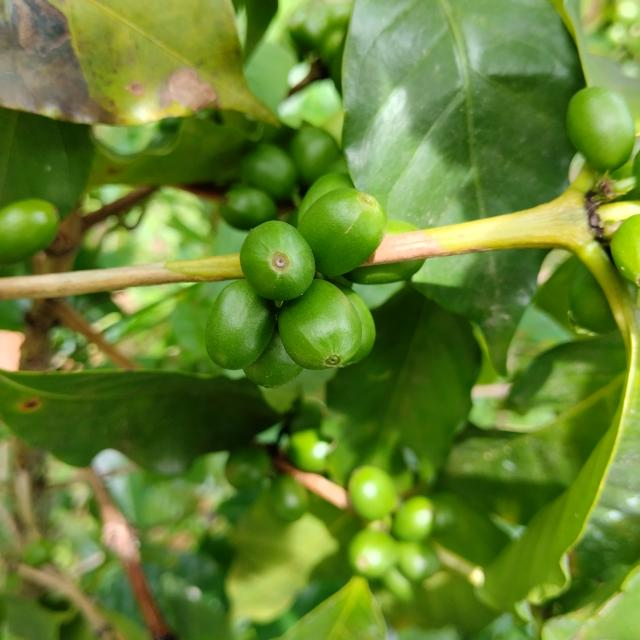green: (298, 188, 388, 277), (278, 279, 362, 370), (204, 279, 276, 370), (239, 220, 315, 301), (567, 86, 636, 171), (336, 284, 376, 364), (344, 259, 425, 284), (387, 219, 418, 235)
